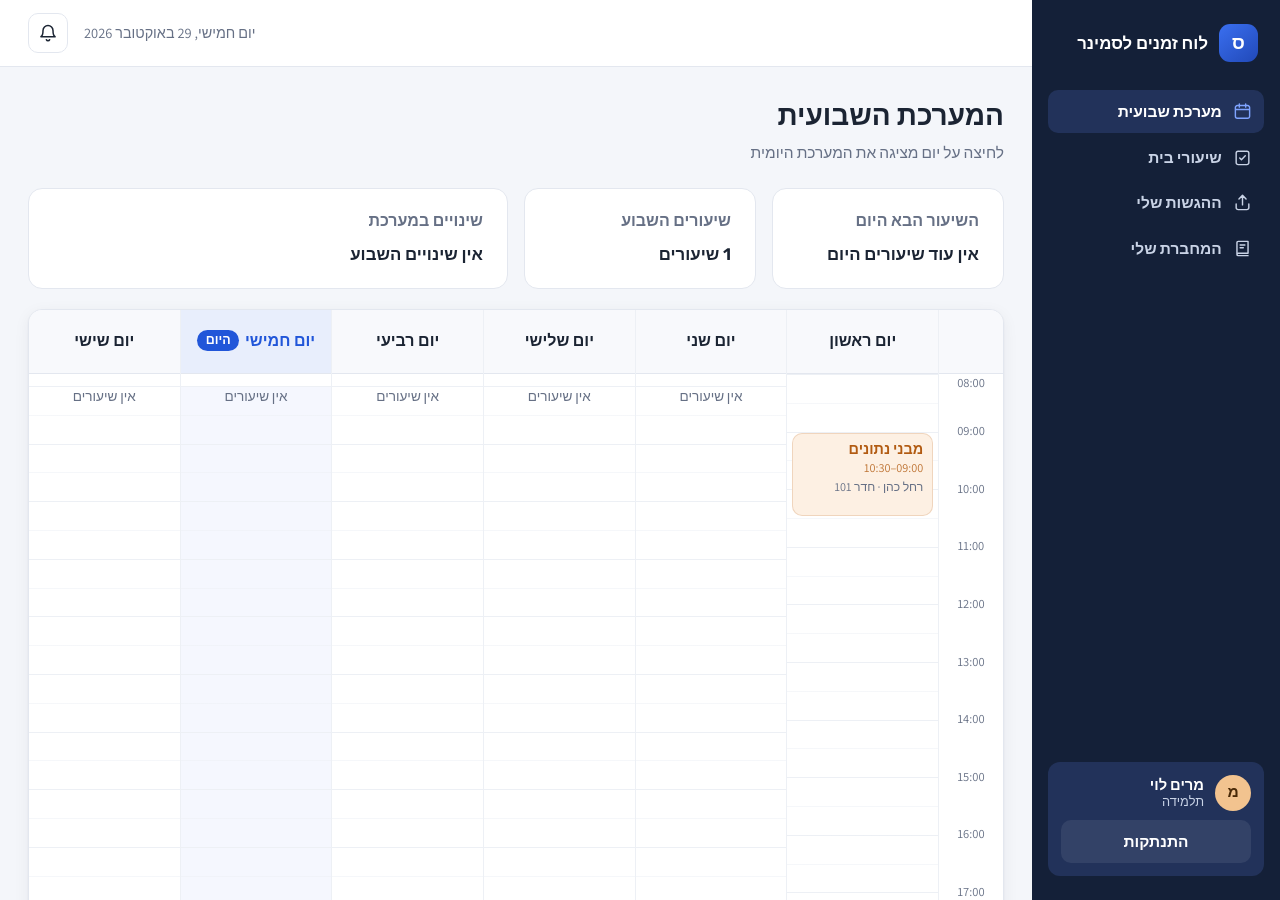
Test case: מערכת שבועית › לחיצה על יום פותחת את המערכת היומית עם שם שיעור, שעות וחדר
Click the link "יום ראשון" at (884, 341), box [829, 331, 896, 350]
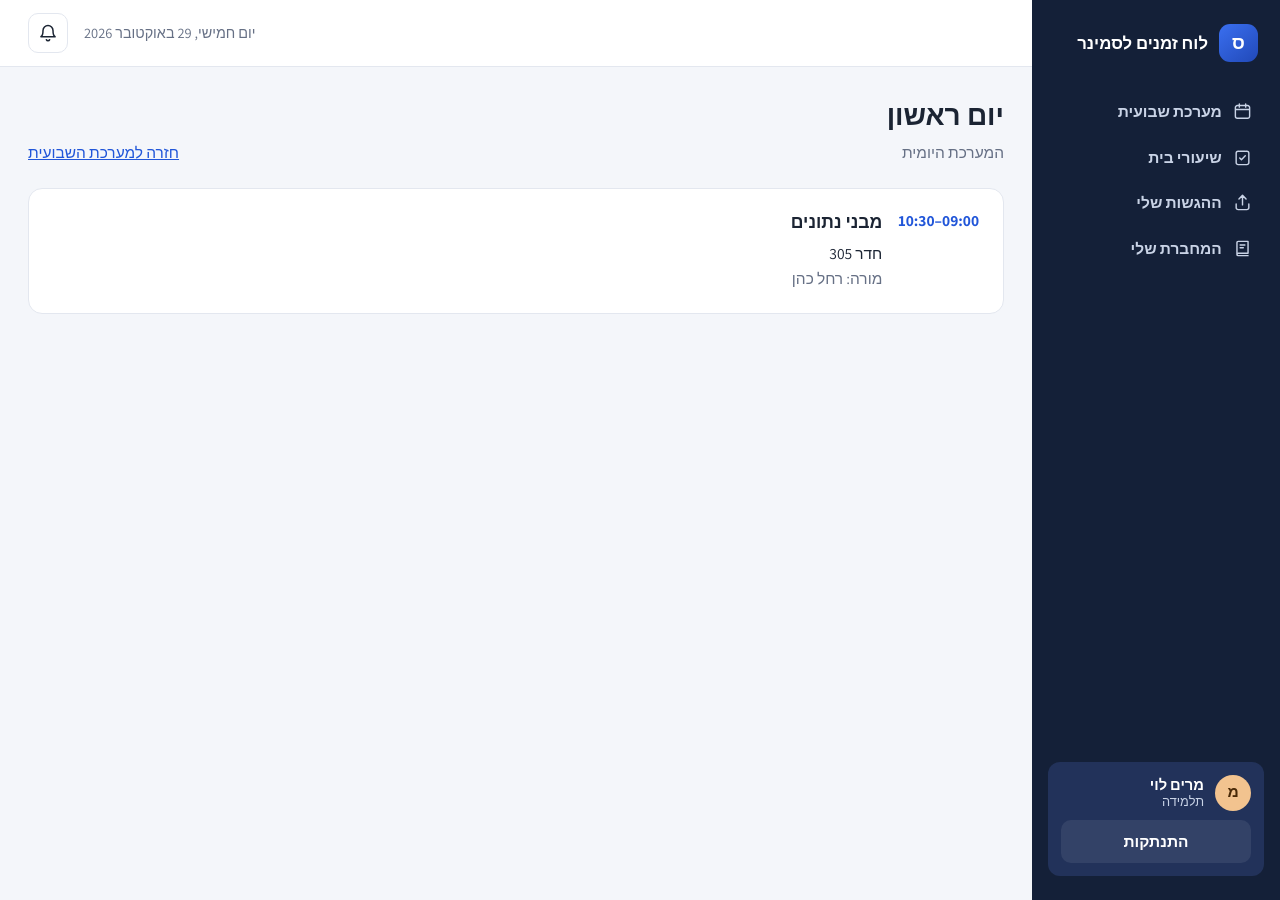
expect the heading "יום ראשון" is shown: met, box [887, 95, 1004, 137]
expect the text "חדר 305" is shown: met, box [829, 243, 882, 263]
expect the text "מורה: רחל כהן" is shown: met, box [791, 267, 882, 291]
